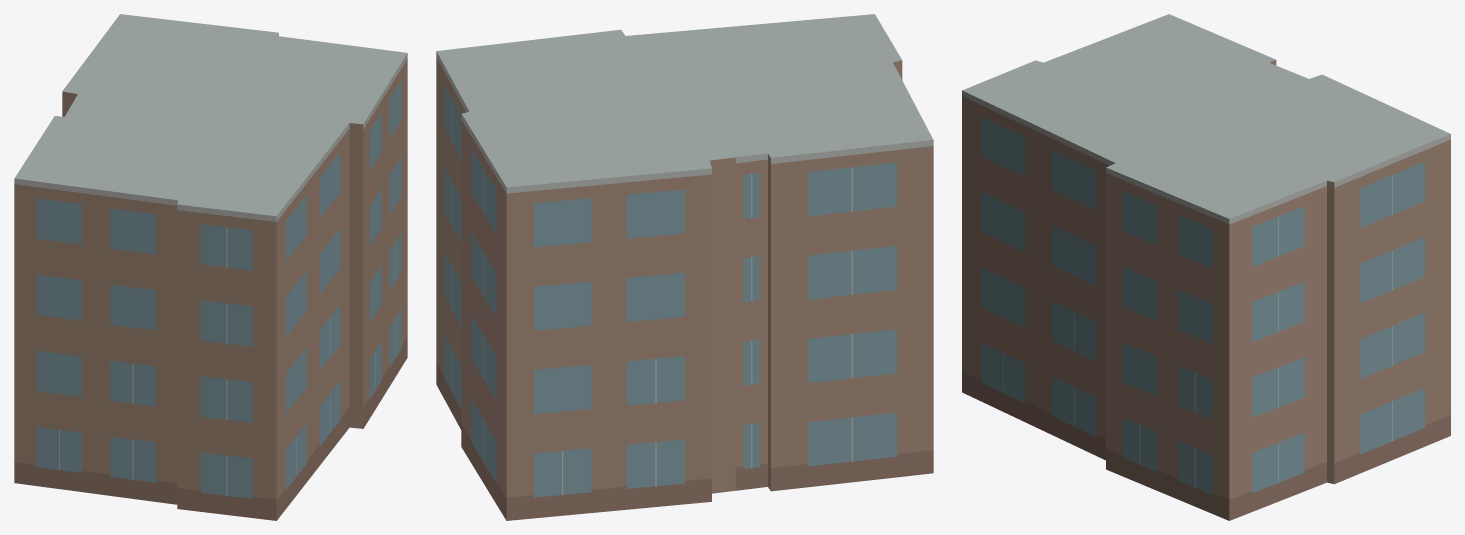
File: survey-upis-32748302.glb
The picture shows the model from 3 angles, left to right: view 1: azimuth 30°, elevation 25°; view 2: azimuth 150°, elevation 25°; view 3: azimuth 270°, elevation 25°; orthographic projection. The views are drawn at different scales.
Visible parts, largest first — view 1: survey-upis-32748302.tmp; view 2: survey-upis-32748302.tmp; view 3: survey-upis-32748302.tmp.
Part boxes in pixels (x1,y1,x2,y2): survey-upis-32748302.tmp: (14, 14, 407, 520); survey-upis-32748302.tmp: (436, 14, 933, 520); survey-upis-32748302.tmp: (962, 14, 1450, 520).
Bounding box in the file's own units: 19.37 × 13.3 × 19.52.
